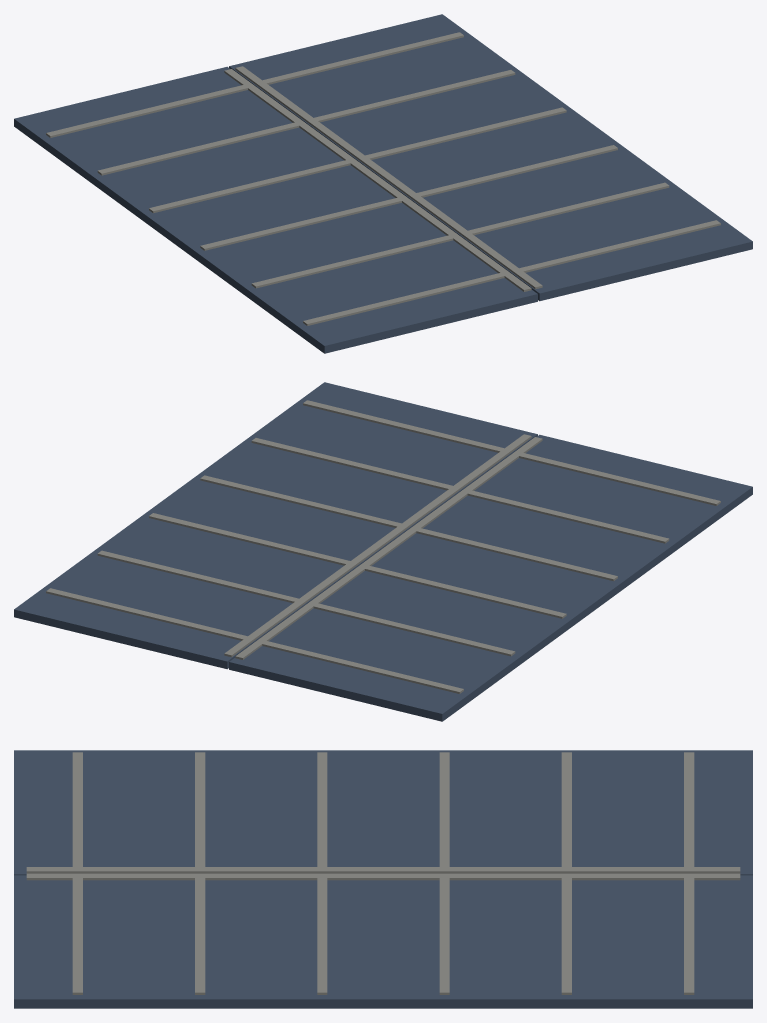
The model's file is ak1_doors.obj.
3 renders of one model, top to bottom at view 1: azimuth 30°, elevation 25°; view 2: azimuth 150°, elevation 25°; view 3: azimuth 270°, elevation 25°, orthographic. The views are drawn at different scales.
Parts seen in each view (by area): view 1: ak1_doors; view 2: ak1_doors; view 3: ak1_doors.
Part boxes in pixels (left/top/right/bottom): ak1_doors: left=14, top=14, right=752, bottom=353; ak1_doors: left=14, top=382, right=752, bottom=721; ak1_doors: left=14, top=750, right=752, bottom=1008.
Bounding box in the file's own units: 4.61 × 0.1 × 5.78.
